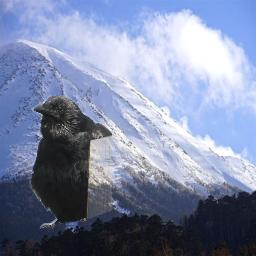Crow: (27, 94, 112, 229)
